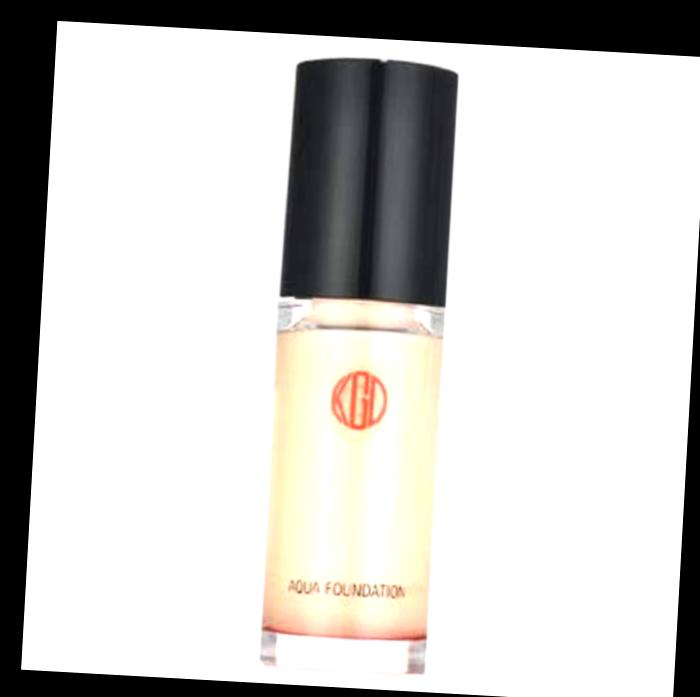cosmetic: (255, 55, 464, 680)
